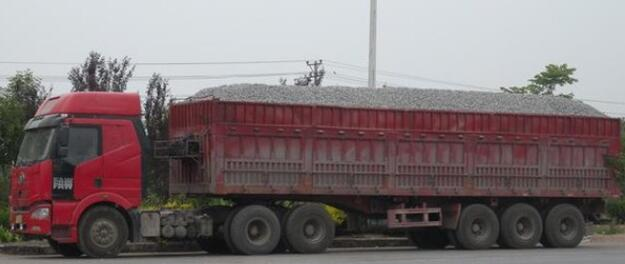chaozhai: (3, 58, 624, 254)
